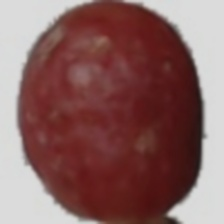grapes: (56, 0, 199, 200)
